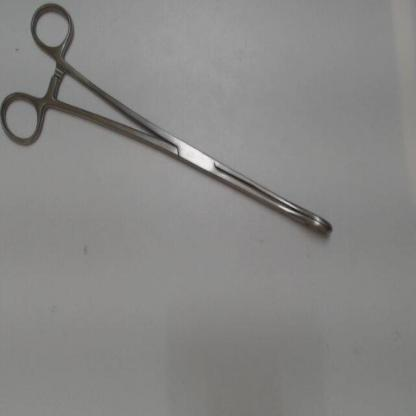Sponge Forceps: (0, 0, 341, 243)
